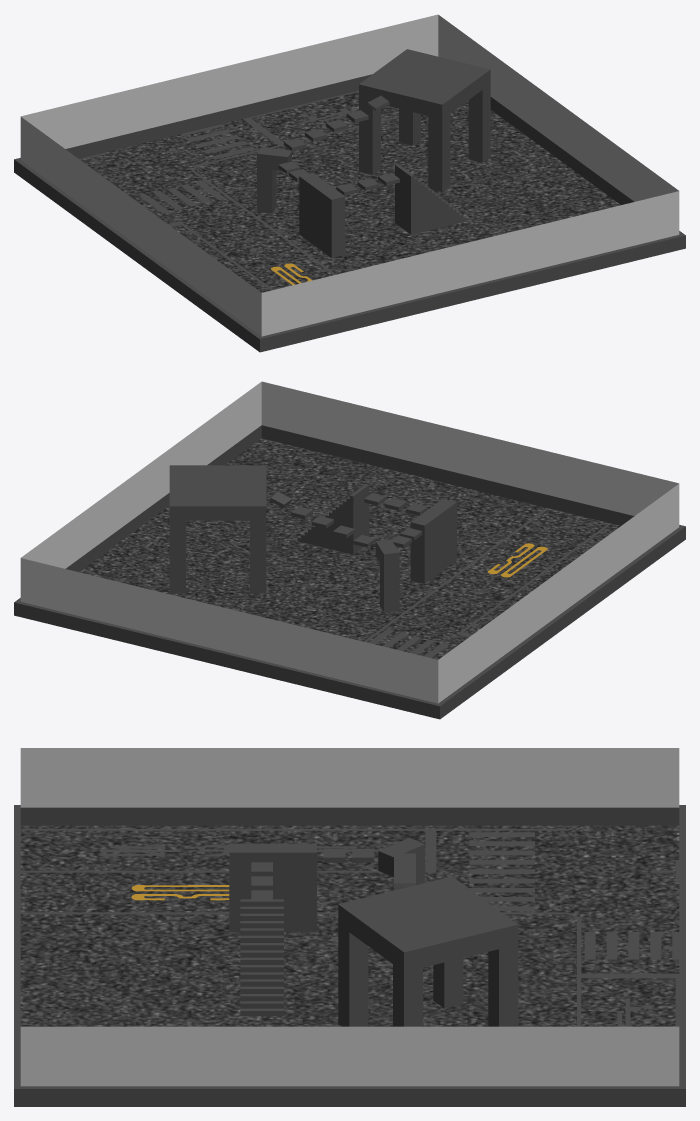
File: NazoField.fbx
3 renders of one model, top to bottom at view 1: azimuth 30°, elevation 25°; view 2: azimuth 150°, elevation 25°; view 3: azimuth 270°, elevation 25°, orthographic. The views are drawn at different scales.
Visible parts, largest first — view 1: base, object, line; view 2: base, object, line; view 3: base, object, line.
Boxes of the visible parts, left/top/right/bottom form: base: left=14, top=14, right=685, bottom=352; object: left=257, top=49, right=490, bottom=257; line: left=79, top=90, right=468, bottom=290; base: left=14, top=381, right=685, bottom=719; object: left=169, top=465, right=456, bottom=612; line: left=364, top=508, right=611, bottom=659; base: left=14, top=748, right=685, bottom=1106; object: left=229, top=838, right=518, bottom=1026; line: left=20, top=825, right=679, bottom=1026.
Bounding box in the file's own units: 3060 × 600 × 3060.
